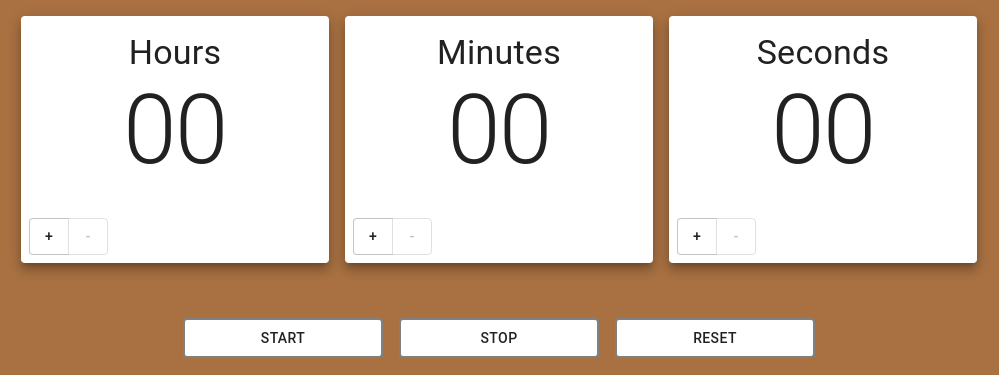
it: Timer component renders › should increase time on hours plus click
The image size is (999, 375).
Step 1. Click the button "+" below "Hours" → (49, 237), box [29,218,69,255]
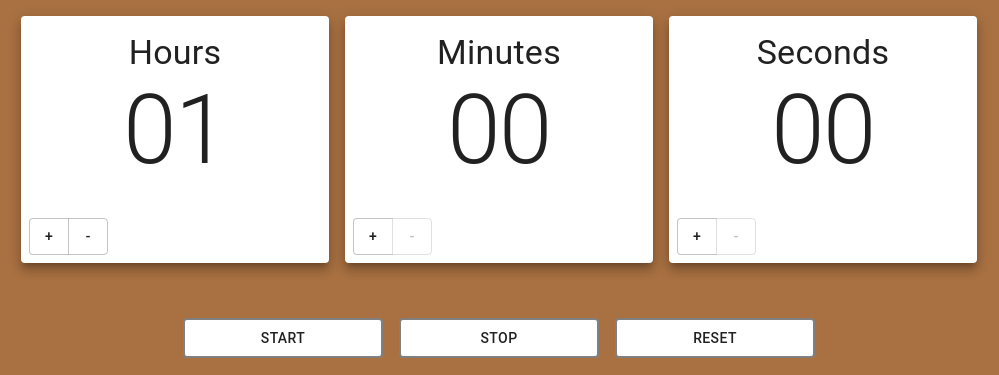
Check: the heading with id "hours" reads "01", box [123,74,227,186]
